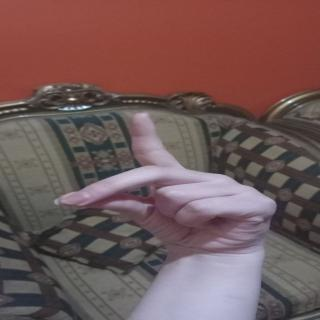TAA: (54, 112, 289, 256)
